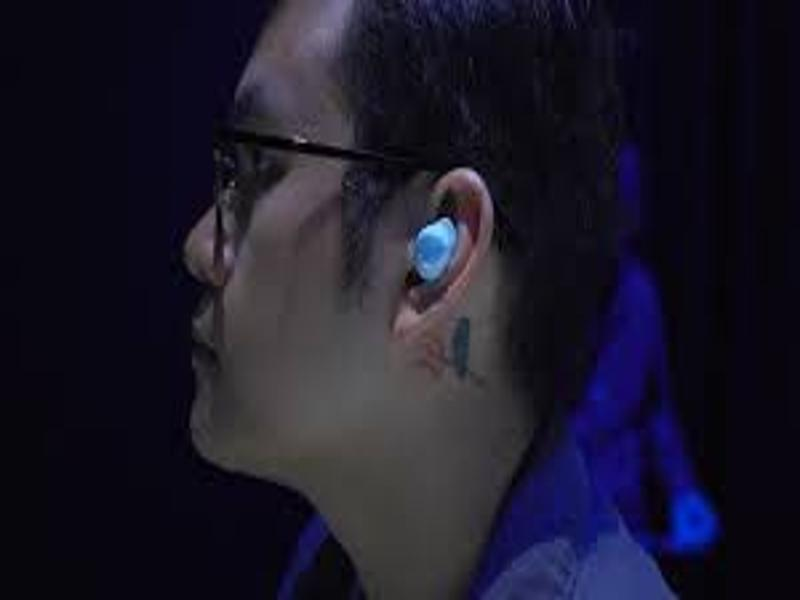headphone: (413, 216, 458, 284)
